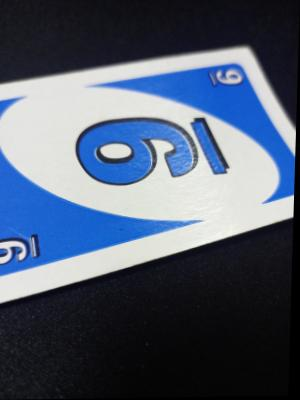blue: (0, 97, 280, 222)
